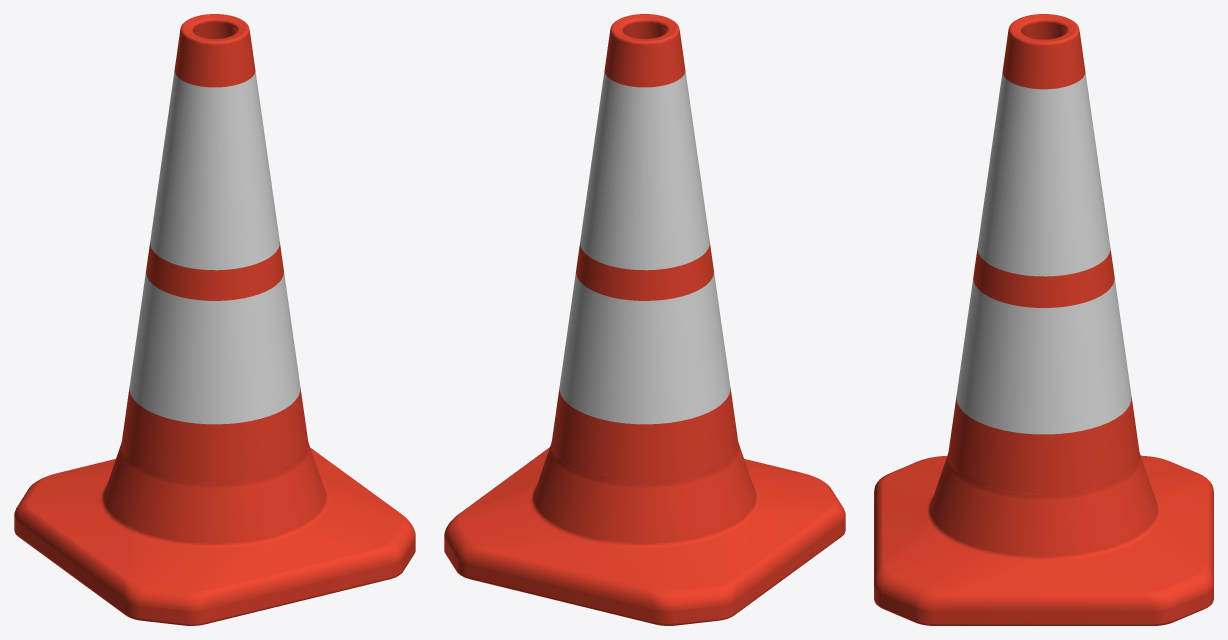
File: TrafficCone.fbx
3 views of the same model, side by side, from view 1: azimuth 30°, elevation 25°; view 2: azimuth 150°, elevation 25°; view 3: azimuth 270°, elevation 25° (orthographic). The views are drawn at different scales.
Visible parts, largest first — view 1: TrafficCone_04; view 2: TrafficCone_04; view 3: TrafficCone_04.
Part boxes in pixels (x1,y1,x2,y2): TrafficCone_04: (14, 14, 415, 625); TrafficCone_04: (444, 14, 845, 625); TrafficCone_04: (874, 14, 1213, 625).
Bounding box in the file's own units: 26.67 × 45.61 × 26.67.
